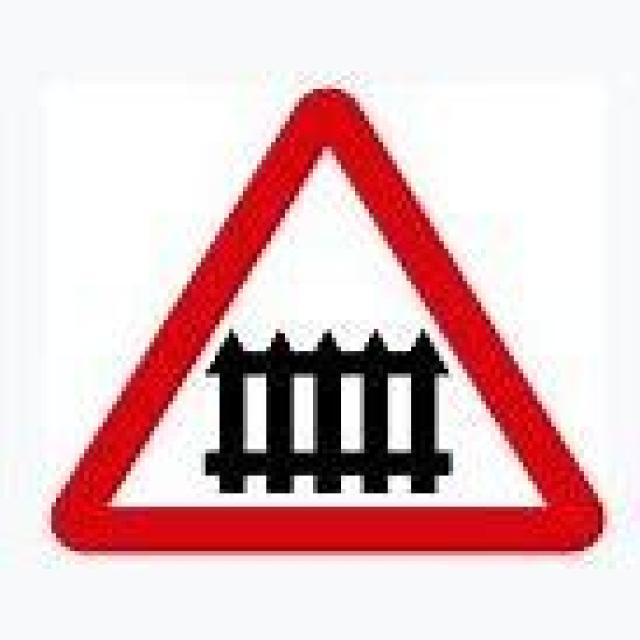GUARDED_LEVEL_CROSSING: (47, 84, 610, 561)
